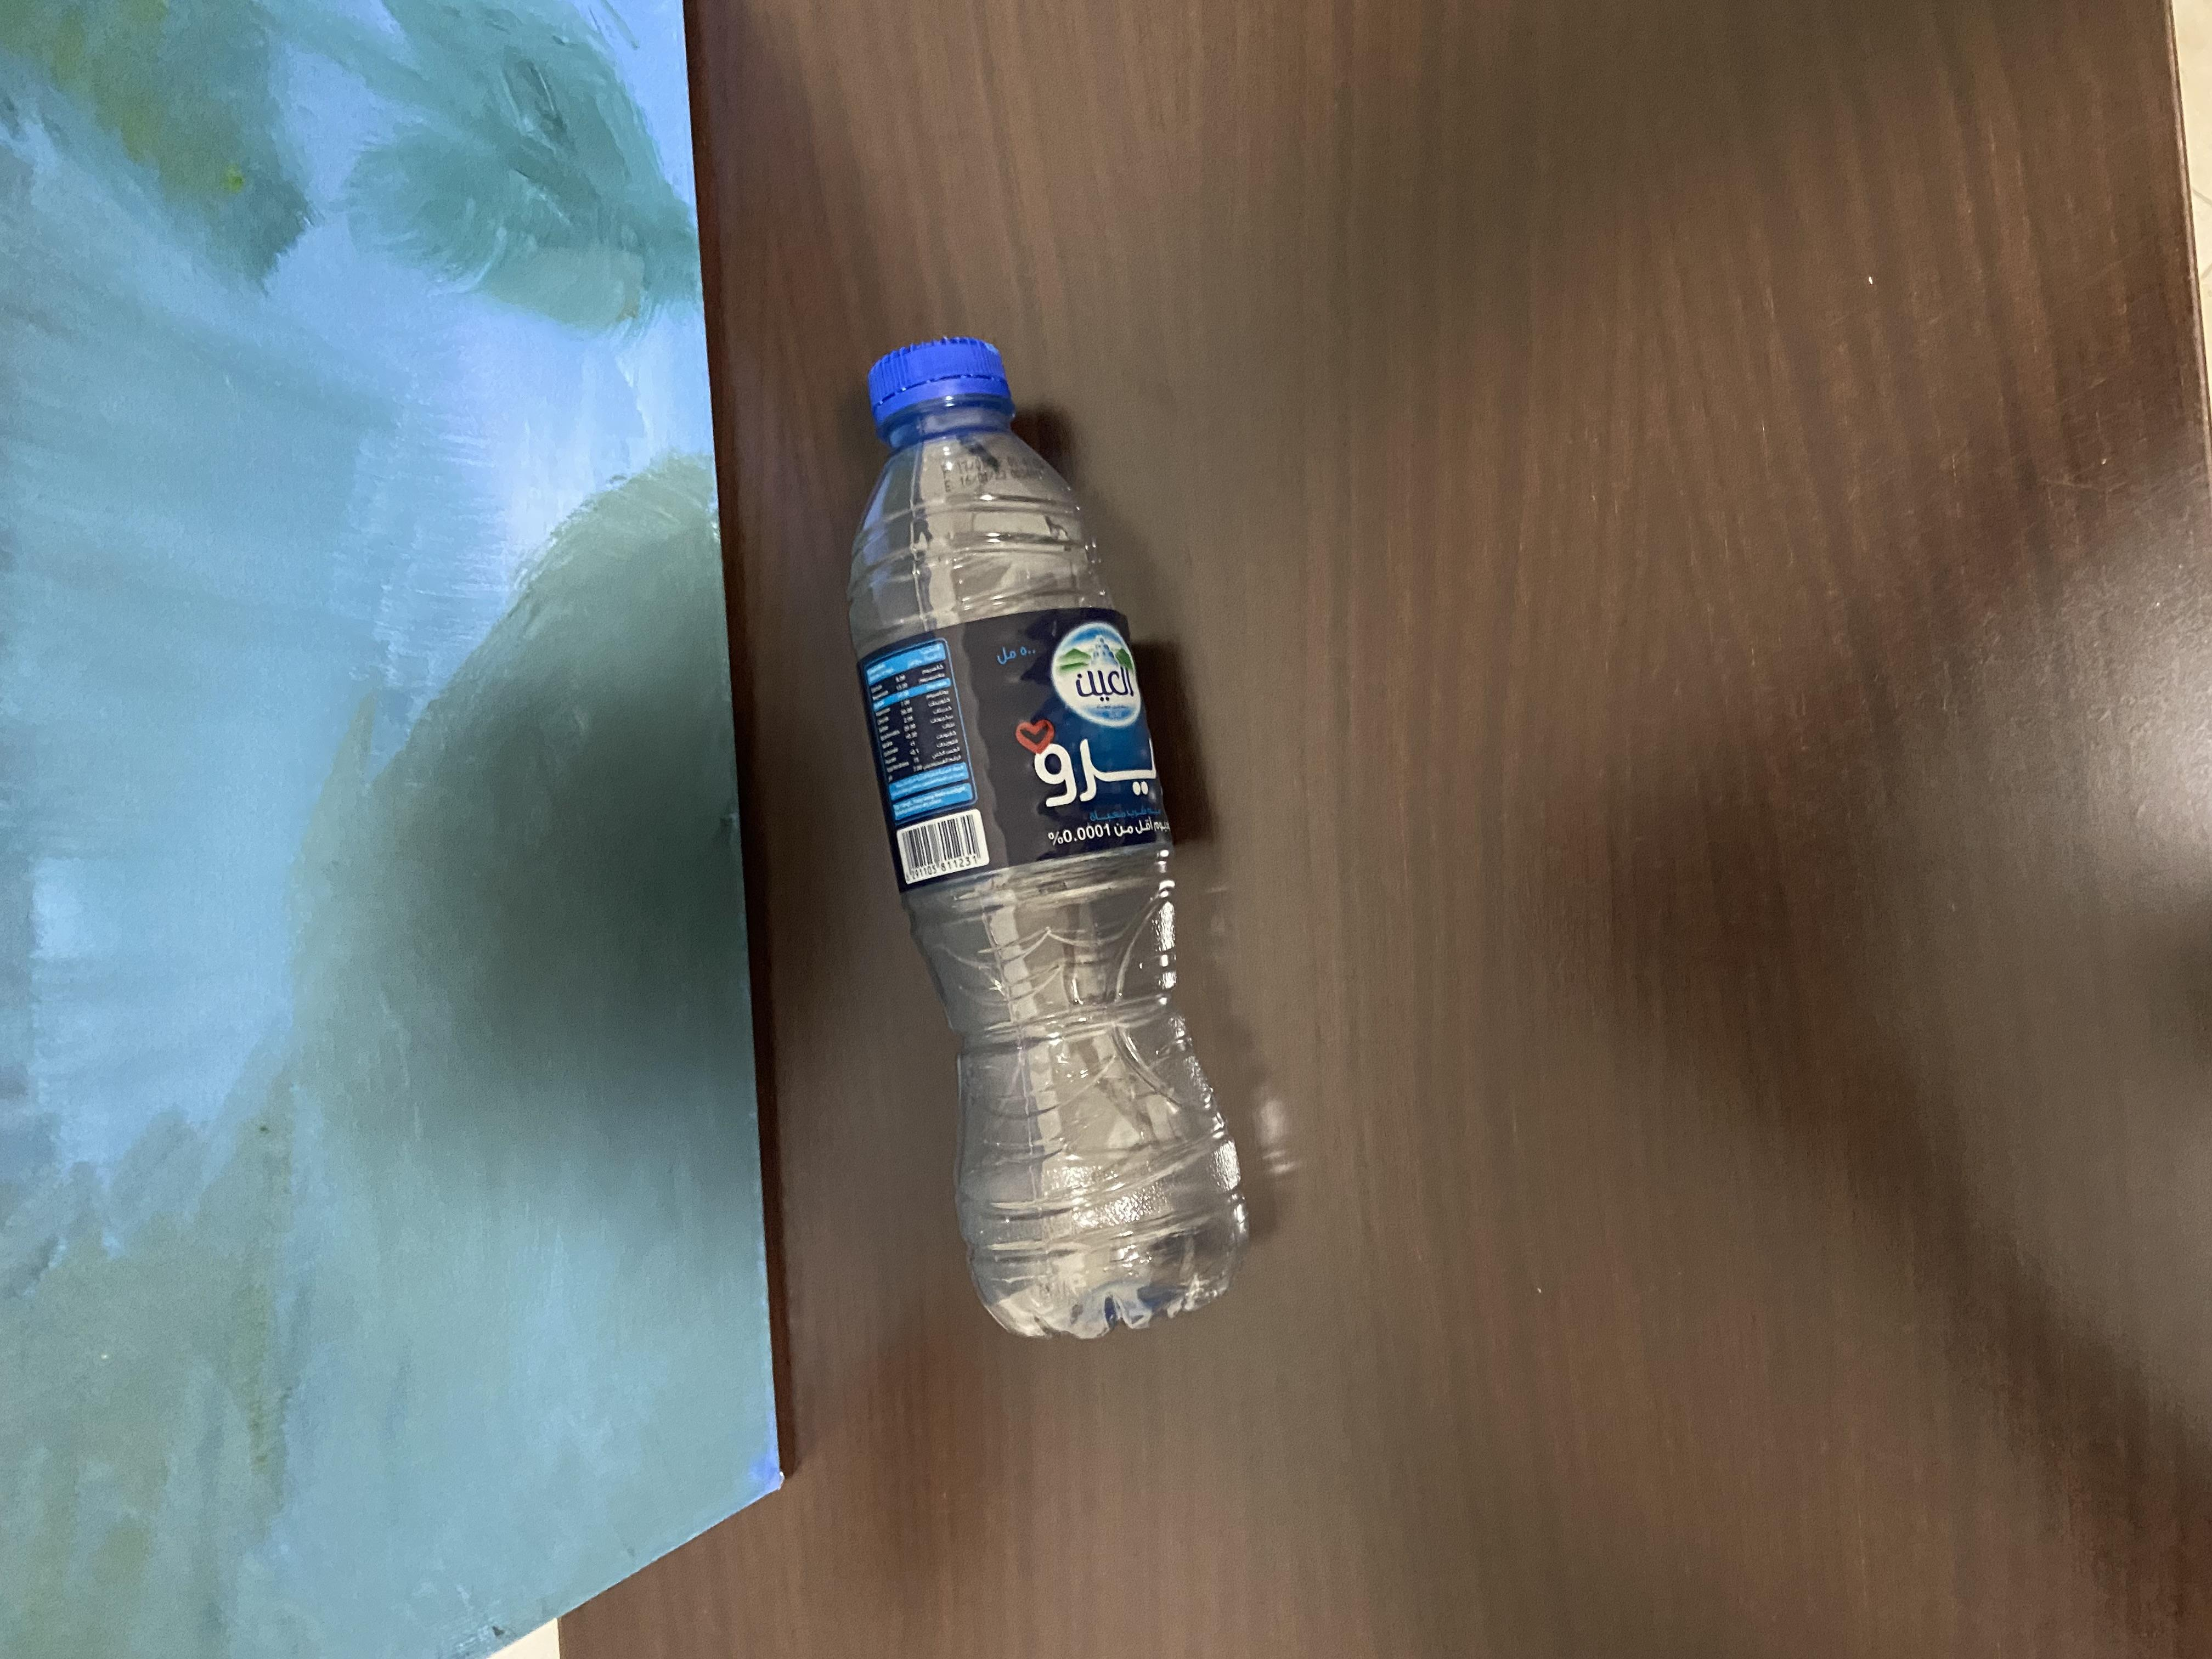bottle: (425, 638, 1796, 945)
